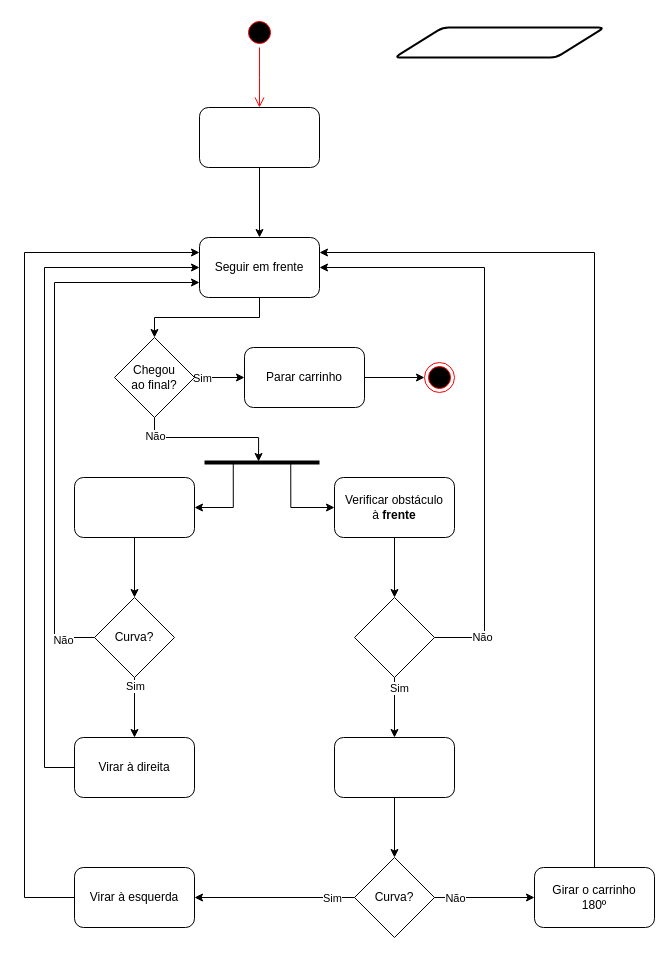
Image size: 672x955. Some labels were removed from this diagram. The shapes that lost their labels are listed below. From the top down, each one's centre as x and y in pixels, then its label:
point 499,42: Robô de Labirinto
point 259,137: Iniciar carrinho
point 134,507: Verificar curva à direita
point 394,637: Obstáculo?
point 394,767: Verificar curva à esquerda
